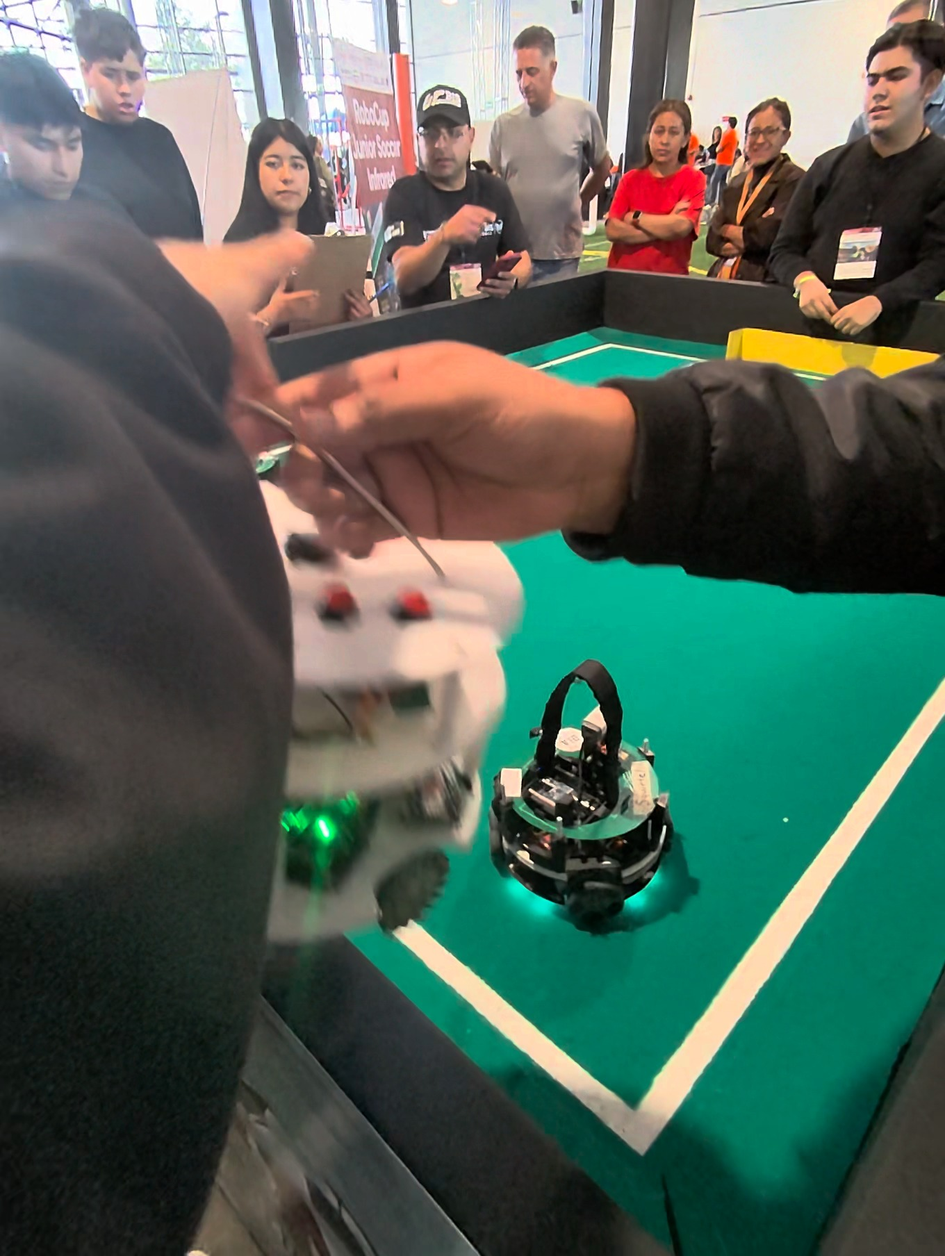Robot: (233, 456, 513, 978), (481, 649, 677, 946)
